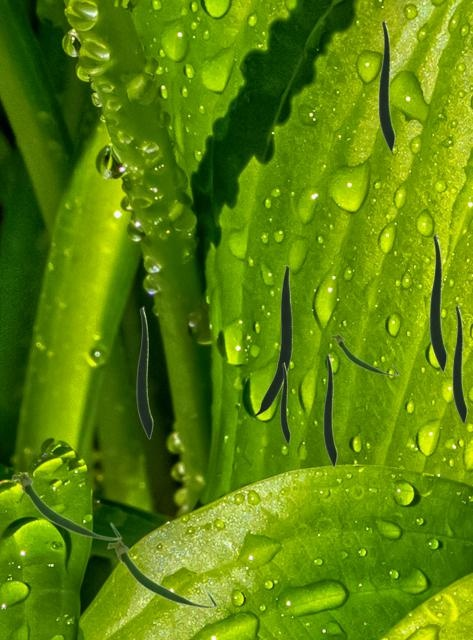french_bean: (10, 471, 121, 540), (106, 541, 217, 608), (250, 265, 291, 416), (330, 333, 398, 375), (429, 233, 446, 371), (136, 306, 152, 438), (378, 19, 394, 151), (452, 304, 466, 423), (323, 353, 336, 466), (280, 362, 289, 443)
